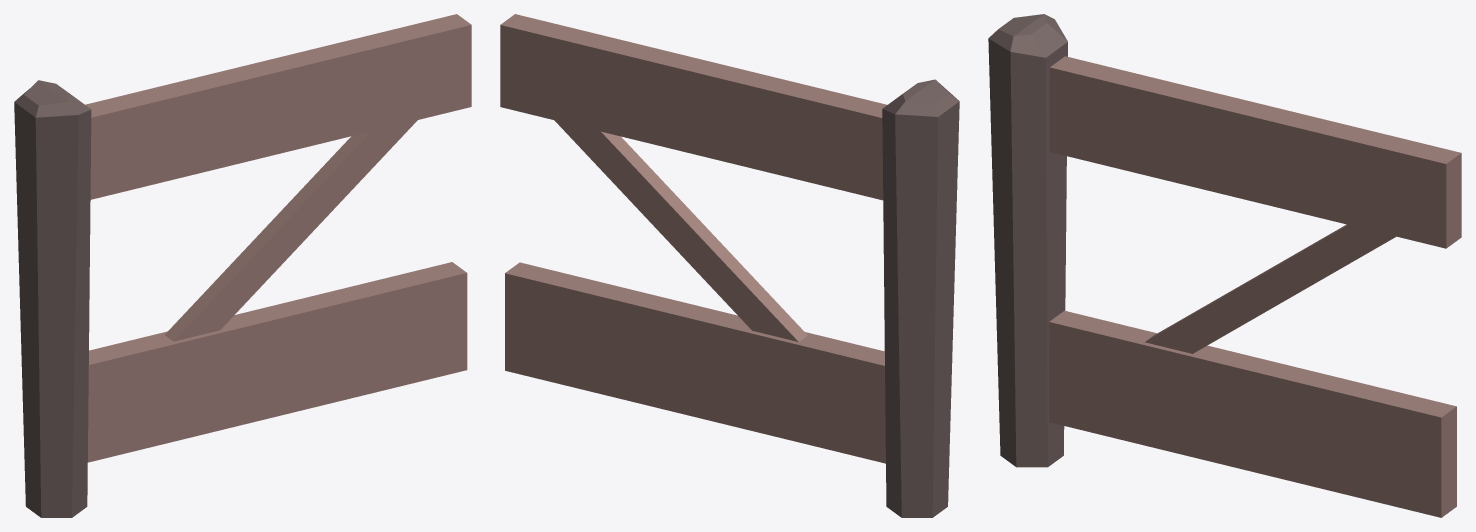
File: fence2.fbx
3 views of the same model, side by side, from view 1: azimuth 30°, elevation 25°; view 2: azimuth 150°, elevation 25°; view 3: azimuth 330°, elevation 25° (orthographic). The views are drawn at different scales.
Visible parts, largest first — view 1: Props_fences.001; view 2: Props_fences.001; view 3: Props_fences.001.
Boxes of the visible parts, x1,y1,x2,y2 form: Props_fences.001: (14, 14, 471, 517); Props_fences.001: (500, 14, 959, 517); Props_fences.001: (988, 14, 1461, 517).
Bounding box in the file's own units: 128 × 116 × 21.66.
